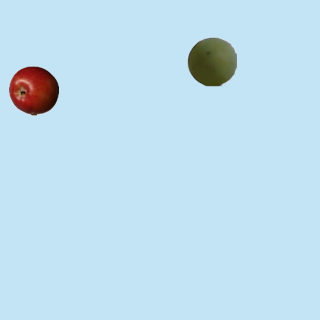Apple Braeburn: (8, 65, 58, 115)
Grape White 4: (186, 36, 236, 86)
